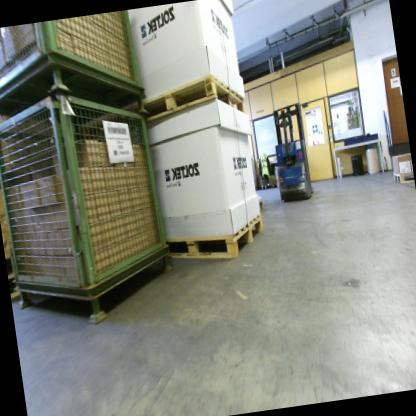pallet: (135, 68, 251, 123), (159, 211, 268, 269), (8, 273, 24, 302), (390, 168, 414, 185), (254, 195, 266, 214)
pallet_truck: (264, 92, 323, 205)
stillage: (0, 87, 180, 345), (0, 10, 150, 156)
